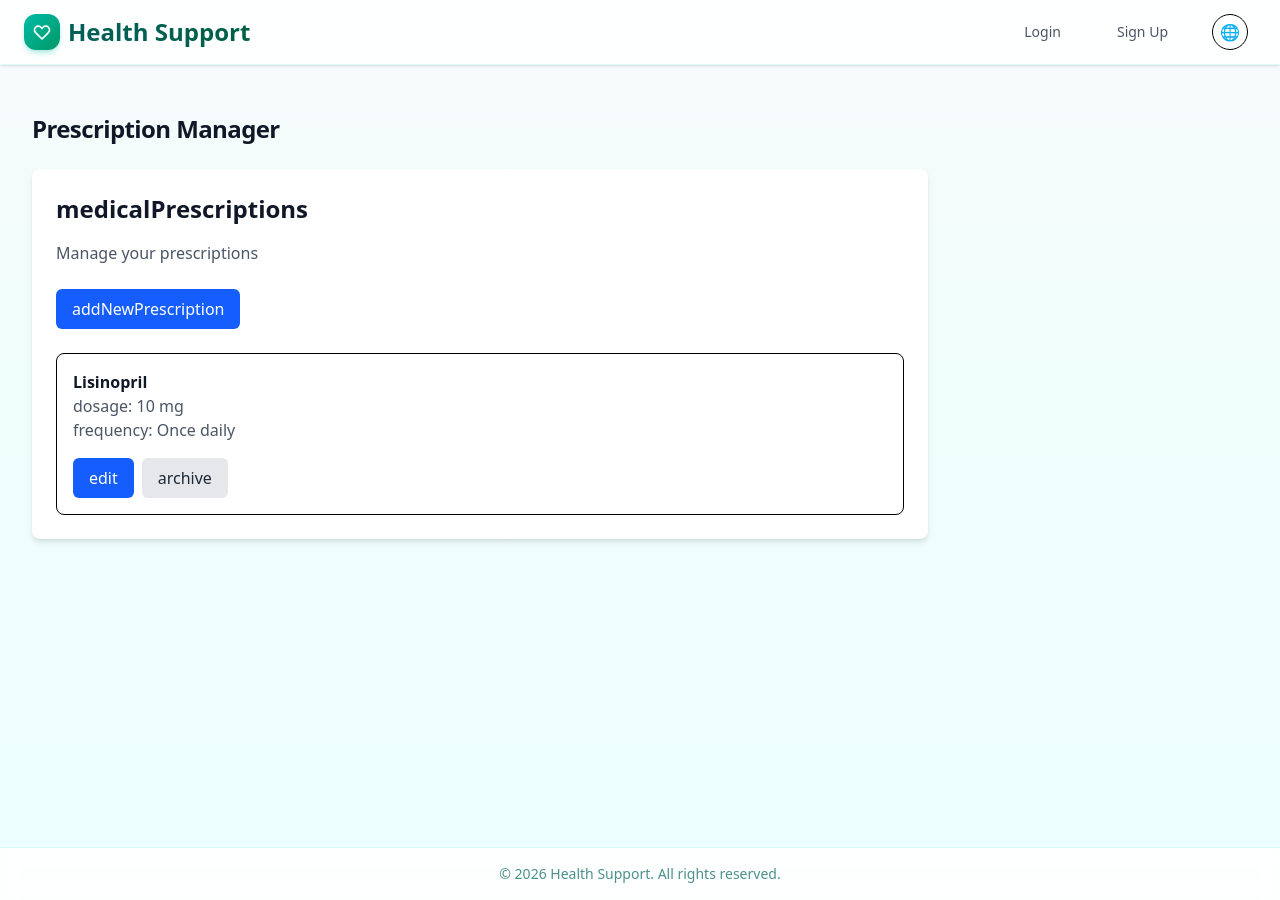
Prescription › confirms and archives a prescription, then refreshes the list
Expected: the heading "Lisinopril" is shown, [73, 371, 147, 393]
Click the button "archive": (185, 478) [142, 458, 228, 498]
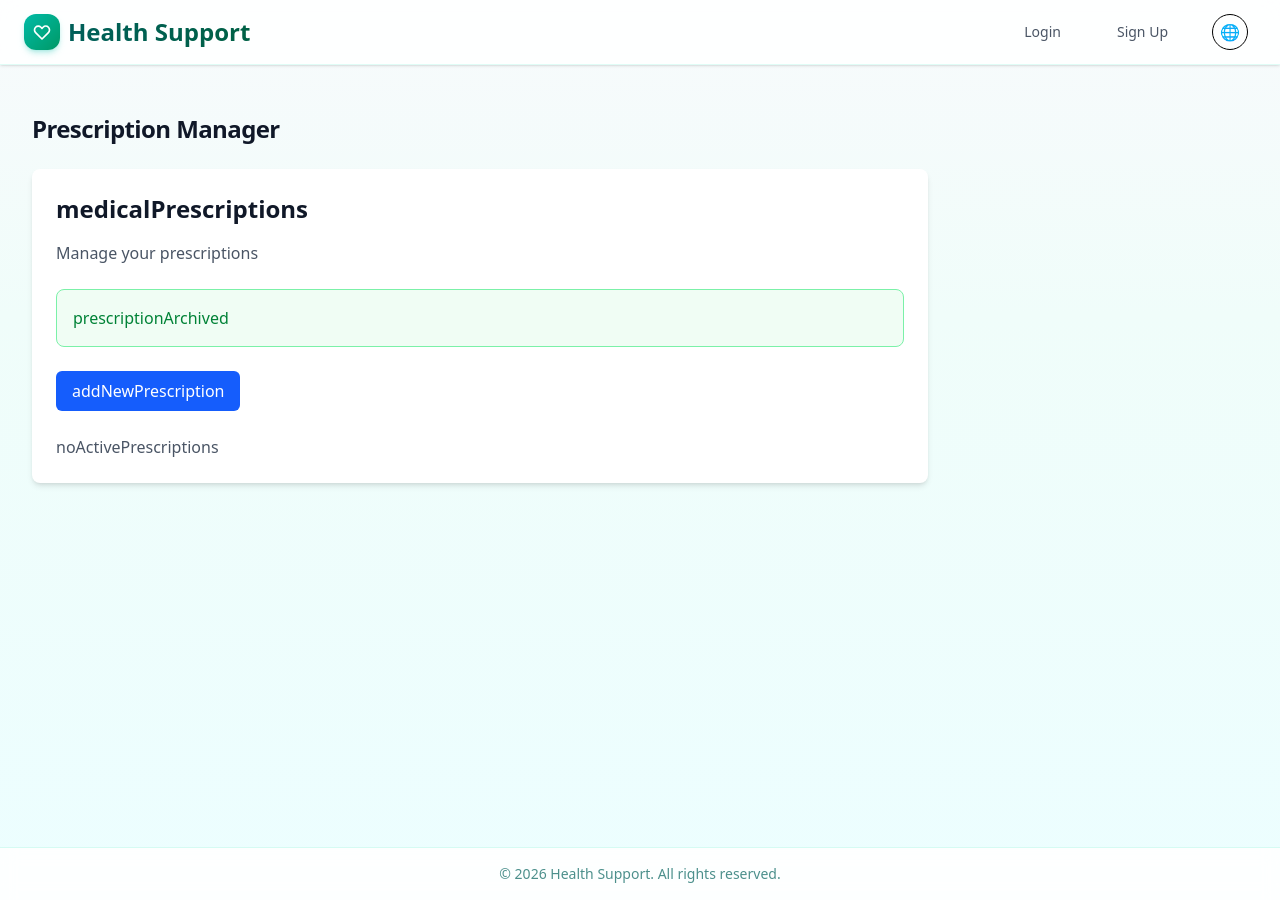
Now the text "noActivePrescriptions" is shown, box [56, 436, 219, 458]
